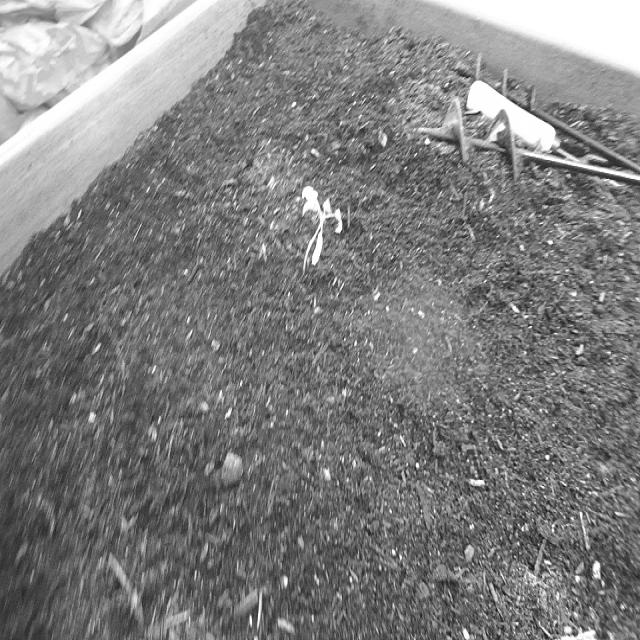Unhealthy: (297, 181, 345, 285)
